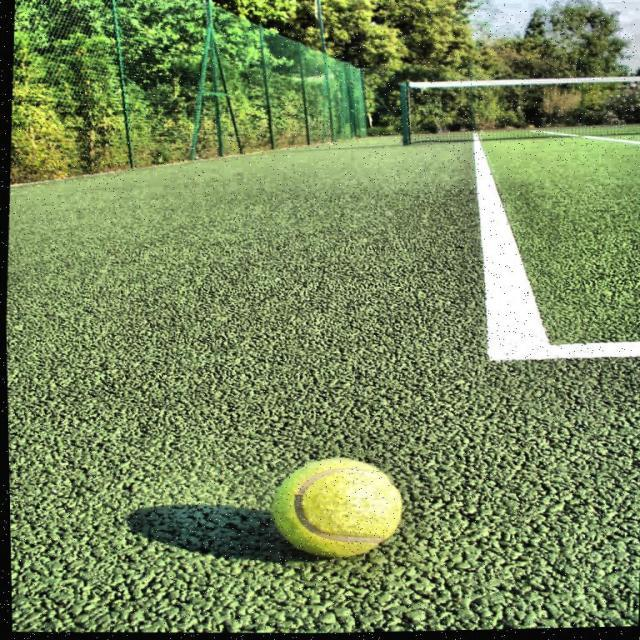tennis-ball: (256, 454, 425, 569)
